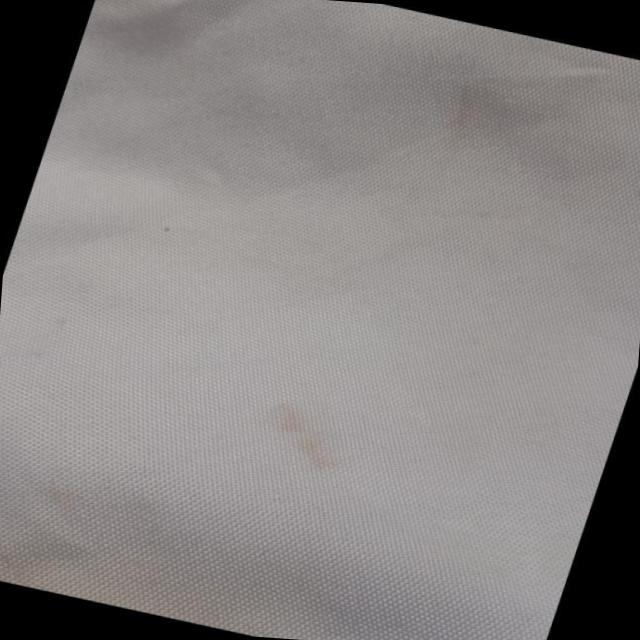stain: (242, 384, 376, 486)
